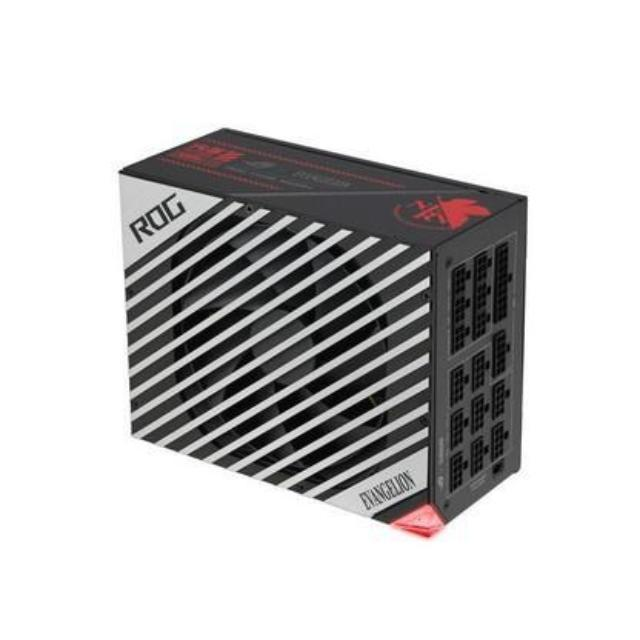PSU: (97, 116, 548, 562)
